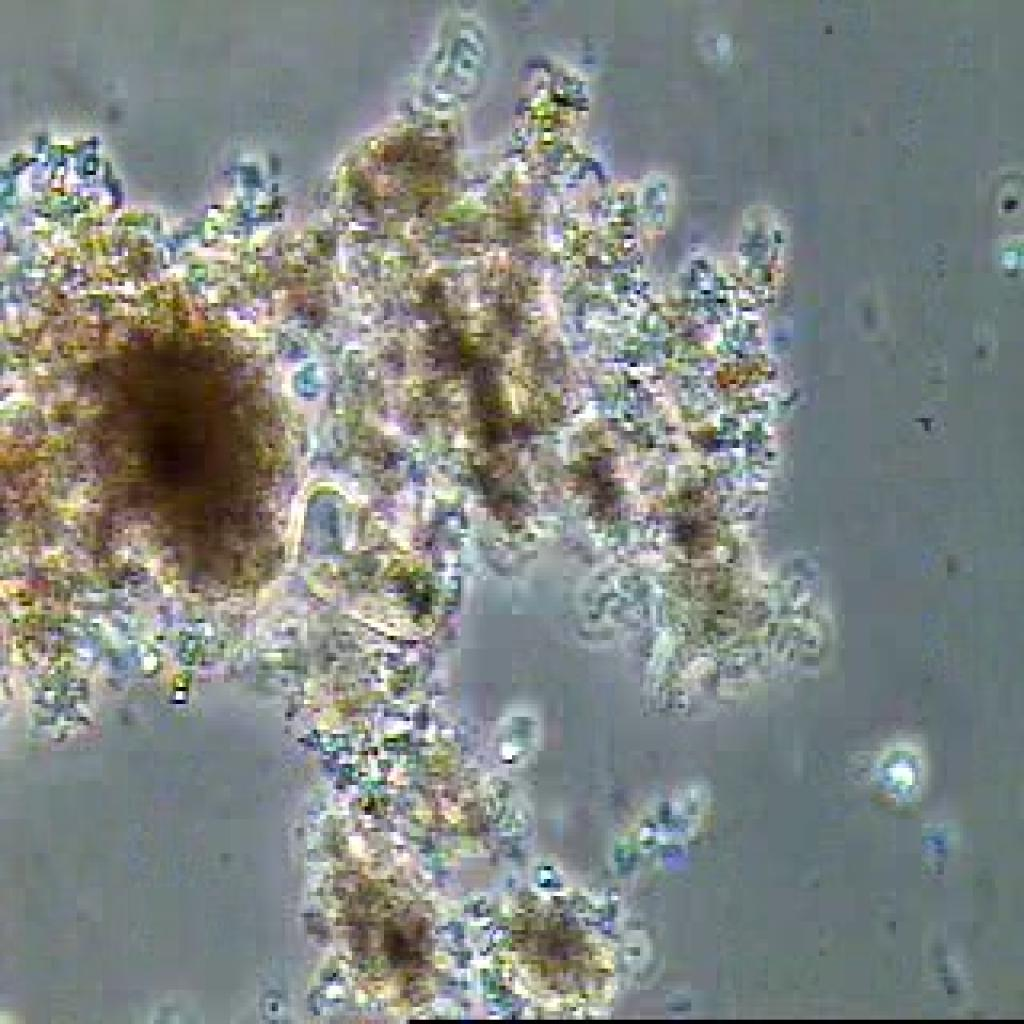Paramecium: (285, 456, 467, 666)
